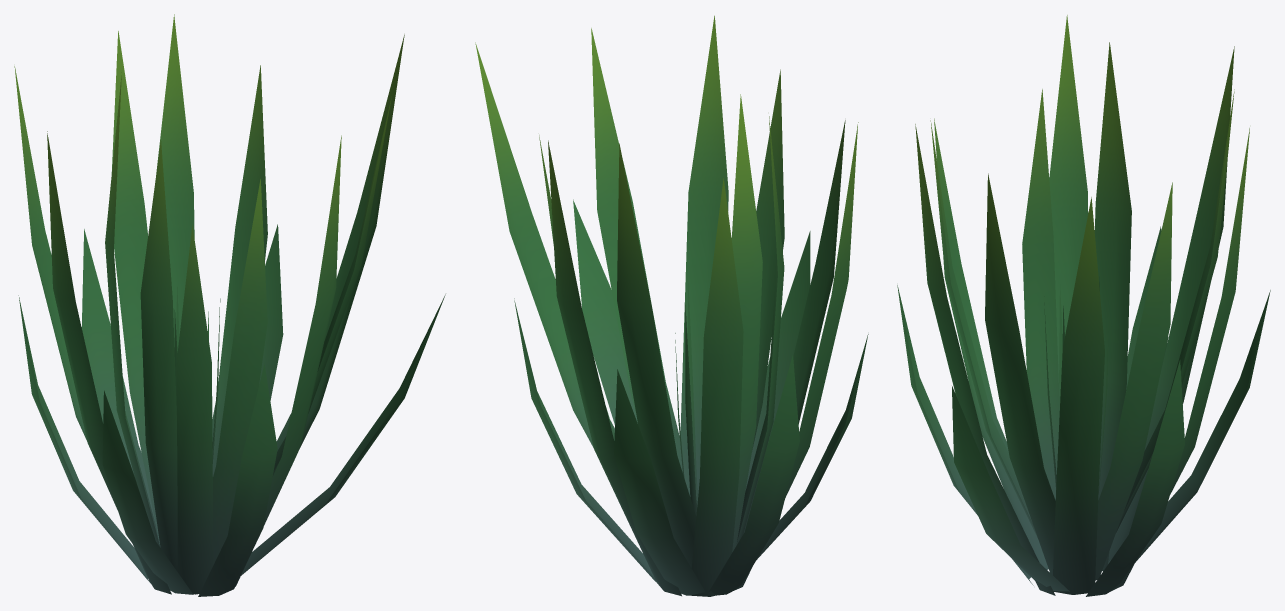
Rendered from plant_26.fbx.
The picture shows the model from 3 angles, left to right: view 1: azimuth 30°, elevation 25°; view 2: azimuth 150°, elevation 25°; view 3: azimuth 270°, elevation 25°; orthographic projection.
Visible parts, largest first — view 1: plant_26; view 2: plant_26; view 3: plant_26.
Part boxes in pixels (<box>): plant_26: <box>14,14,445,596</box>; plant_26: <box>475,15,868,596</box>; plant_26: <box>897,15,1270,596</box>.
Size of the model in its own units: 1.99 by 2.61 by 1.74.
